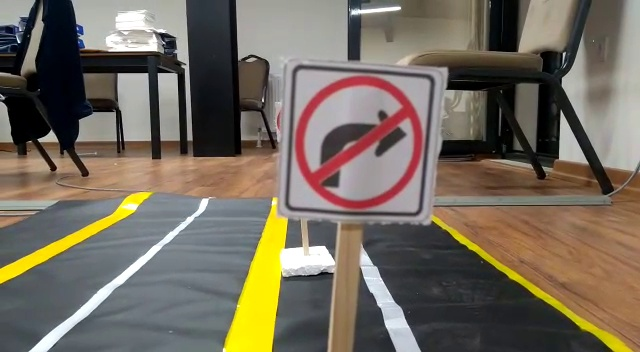saga_donulmez: (293, 67, 424, 215)
